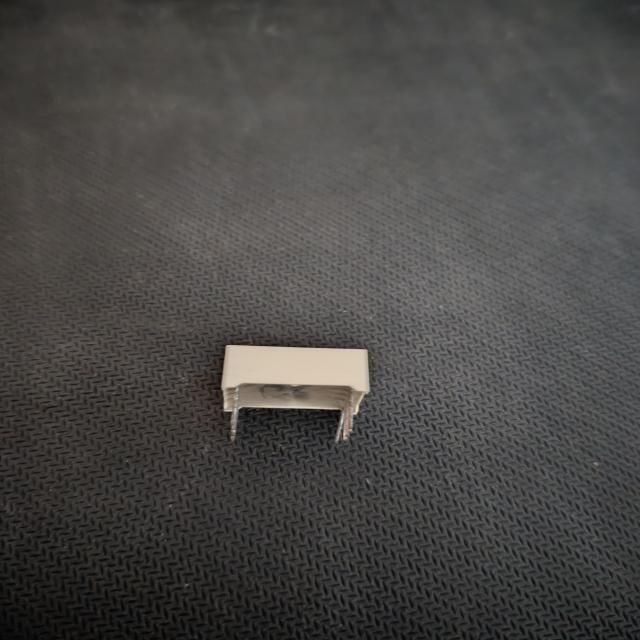sevensegment: (204, 333, 384, 445)
